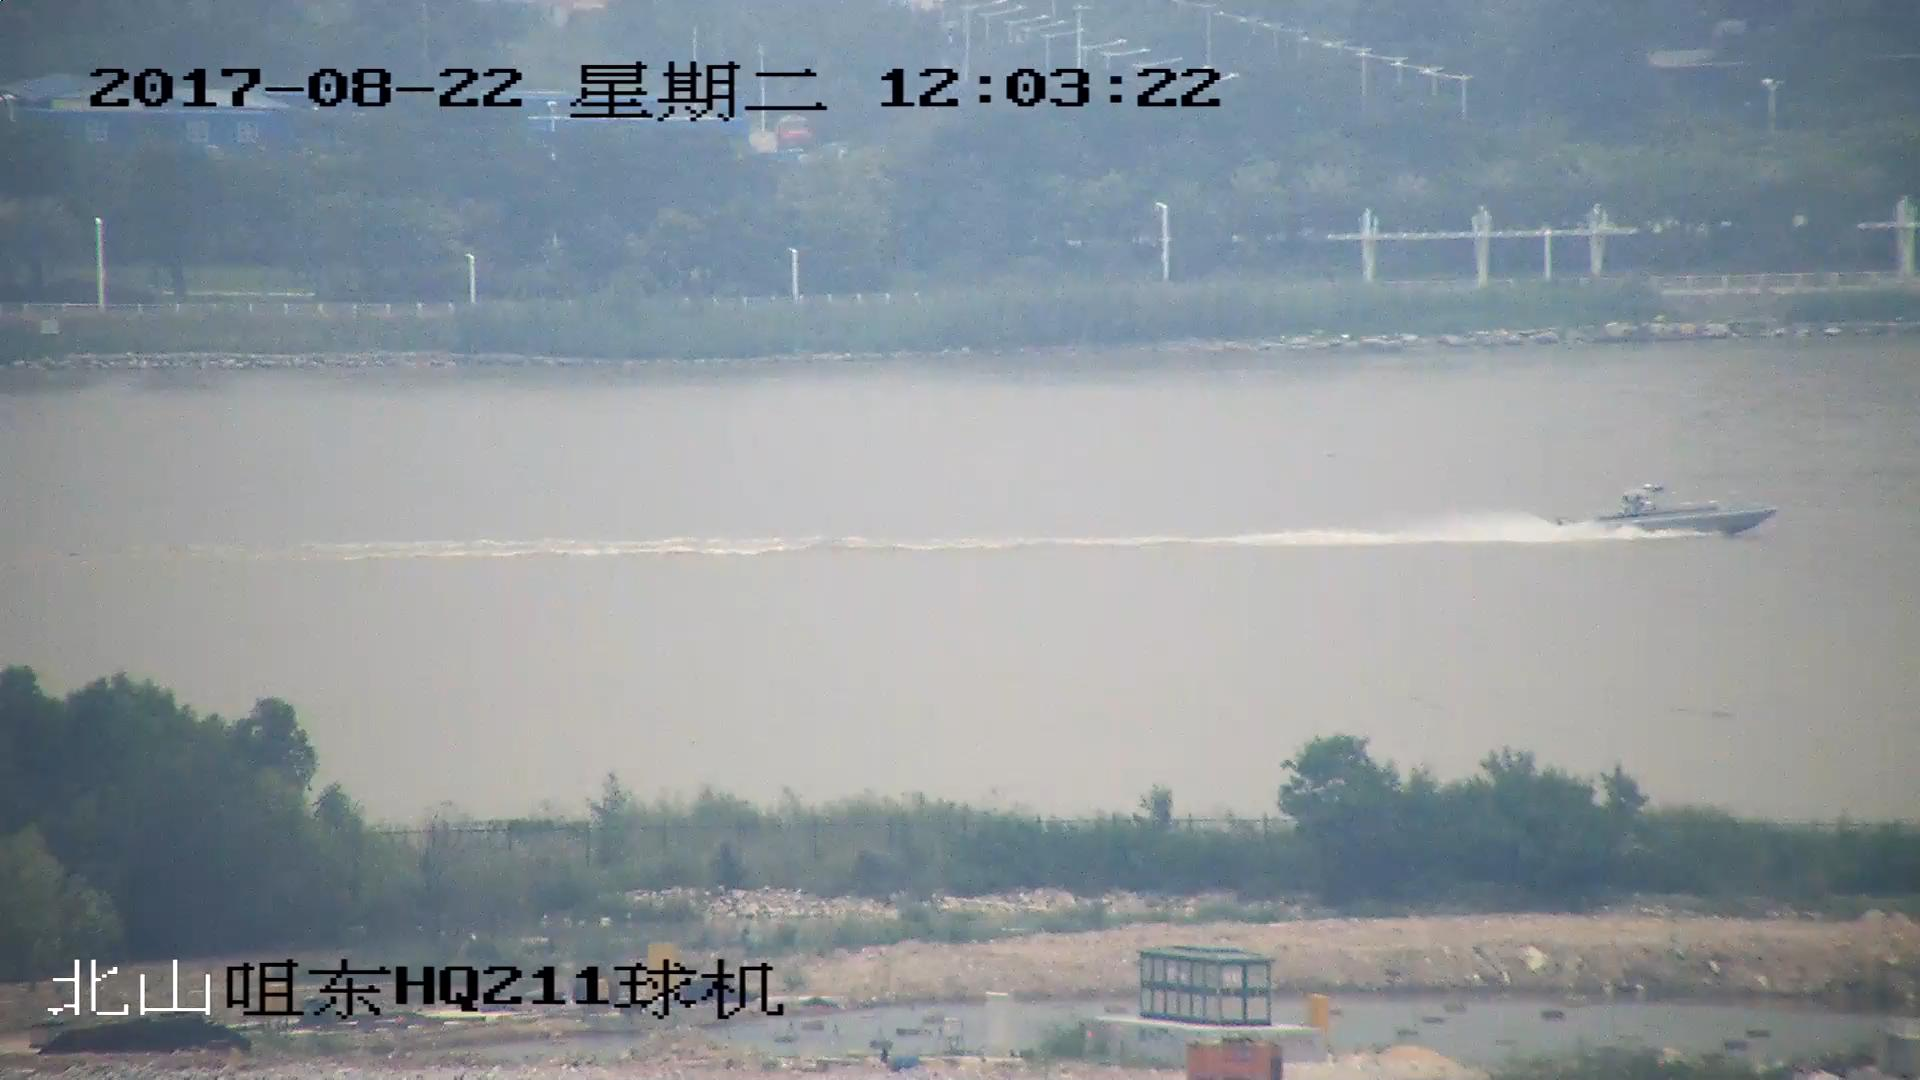passenger ship: (1548, 485, 1774, 545)
